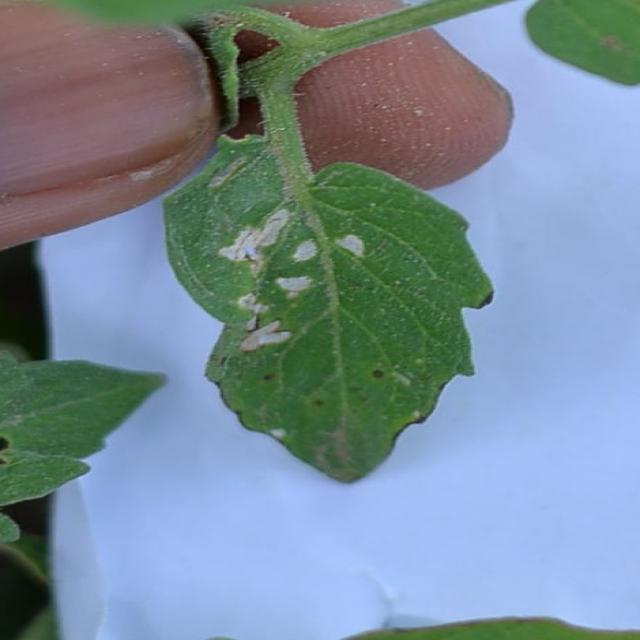infected: (190, 176, 424, 482)
